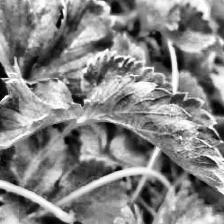Powdery Mildew Leaf: (76, 73, 224, 201)
